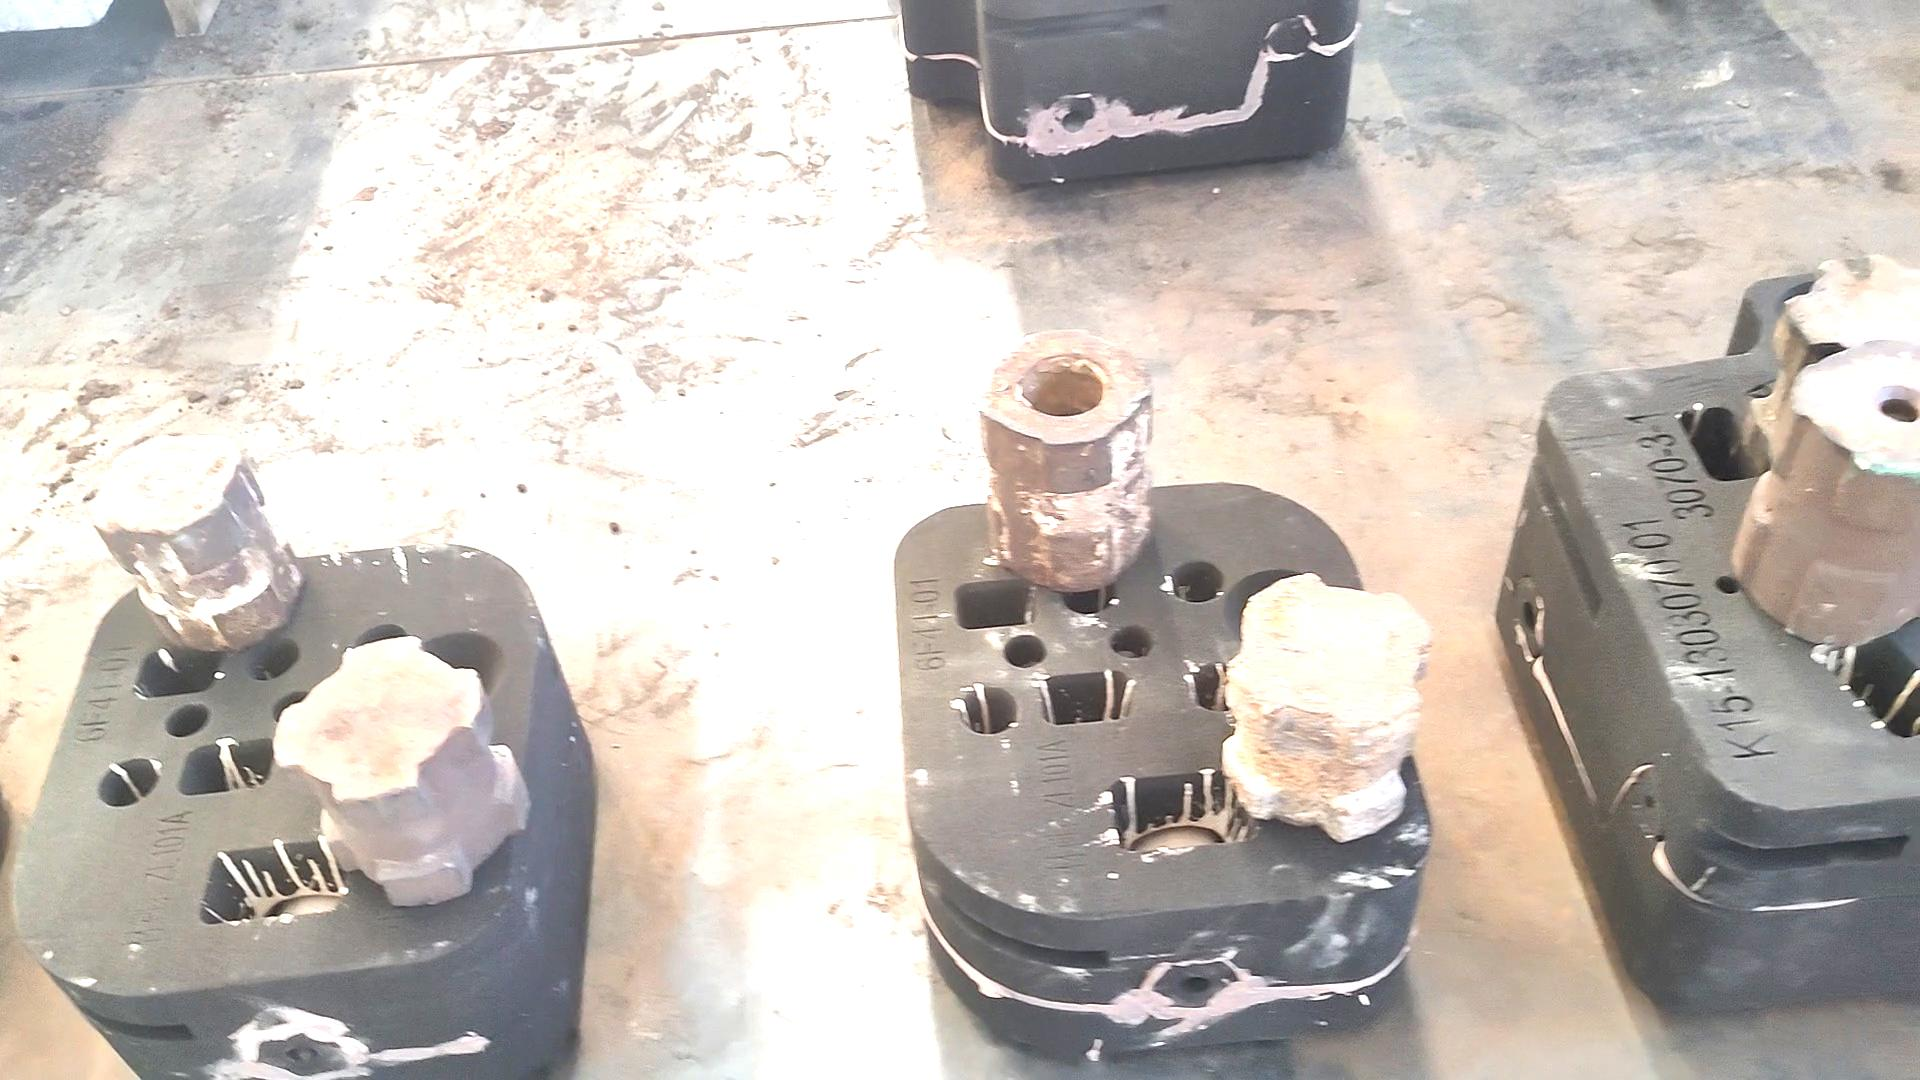pouring hole: (1778, 280, 1902, 364), (1222, 568, 1321, 641), (415, 632, 506, 703)
